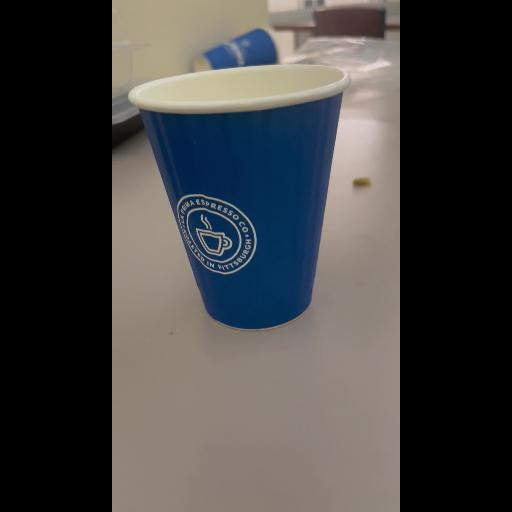lp_paper_cup: (129, 56, 351, 332)
